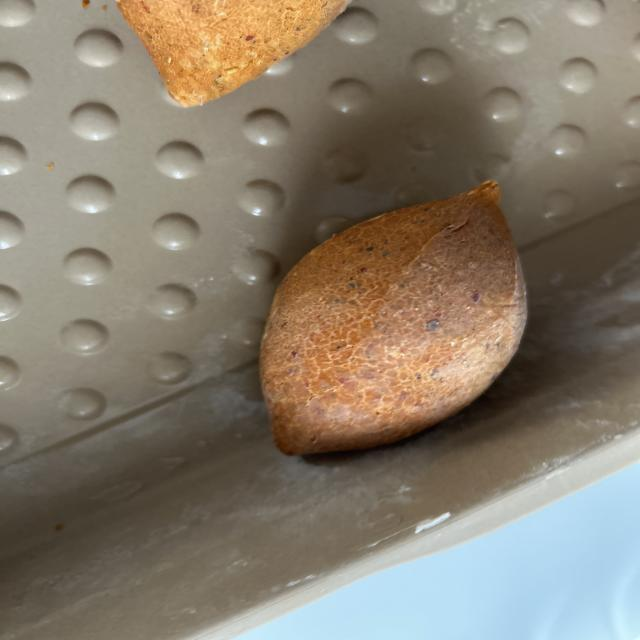kobi: (257, 179, 529, 456), (112, 2, 348, 108)
